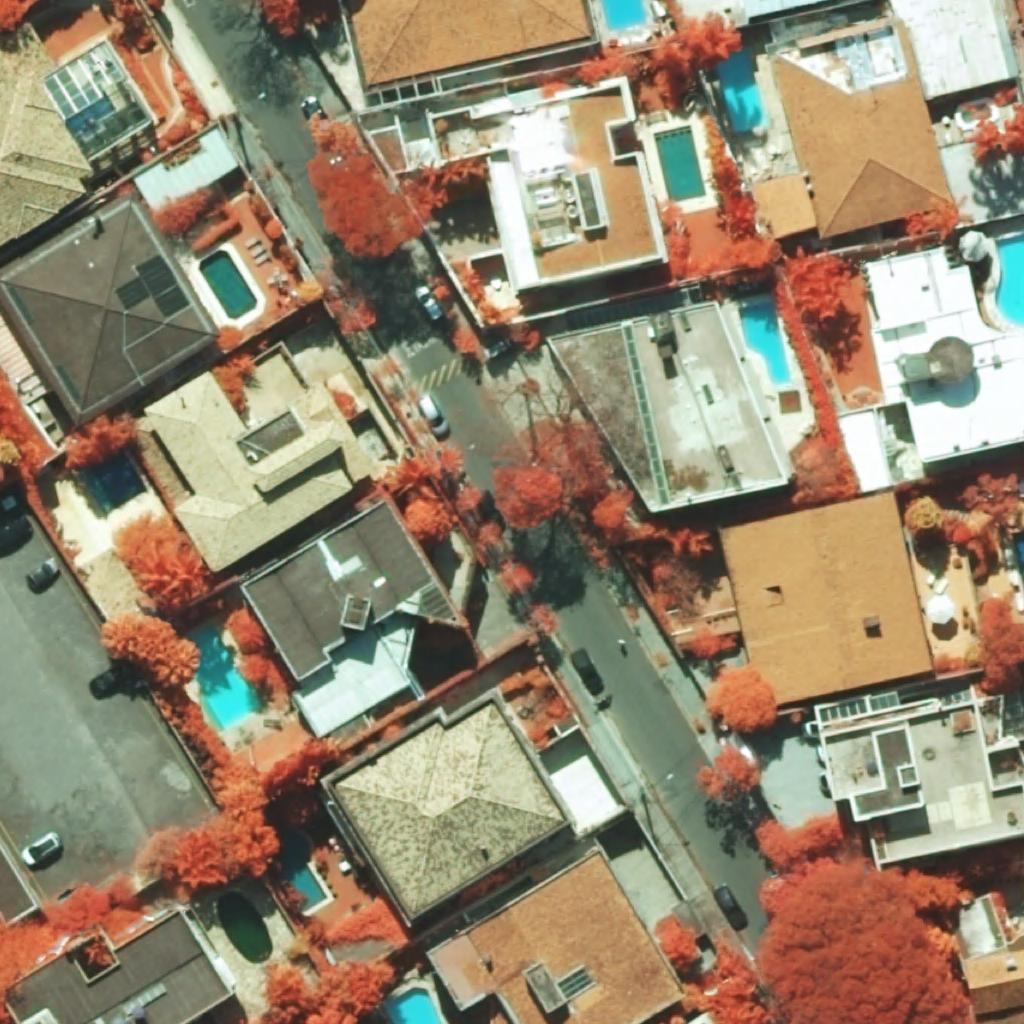pool: (188, 623, 265, 732), (739, 301, 791, 384), (717, 46, 767, 131), (199, 250, 258, 321), (653, 125, 706, 202), (218, 891, 273, 964), (281, 829, 327, 911), (995, 234, 1024, 326), (385, 987, 442, 1024), (65, 96, 116, 135), (601, 0, 648, 29)
